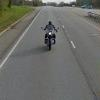Motorcycle: (36, 17, 67, 61)
